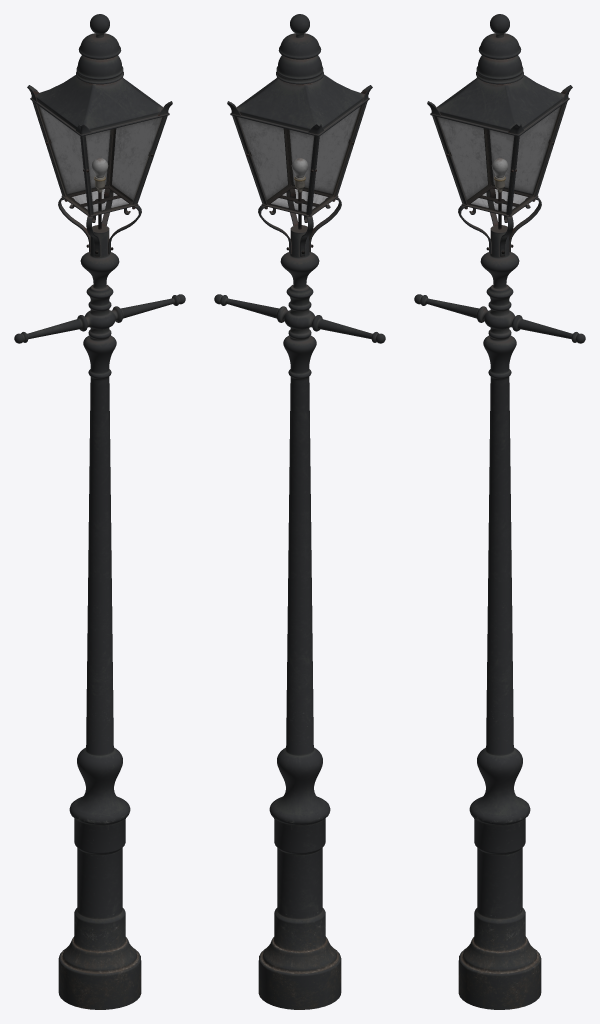
The model's file is streetlamp.glb.
The picture shows the model from 3 angles, left to right: view 1: azimuth 30°, elevation 25°; view 2: azimuth 150°, elevation 25°; view 3: azimuth 330°, elevation 25°; orthographic projection.
Parts seen in each view (by area): view 1: street_lamp_01; view 2: street_lamp_01; view 3: street_lamp_01.
Boxes of the visible parts, x1,y1,x2,y2 form: street_lamp_01: (14, 14, 185, 1009); street_lamp_01: (214, 14, 385, 1009); street_lamp_01: (414, 14, 585, 1009).
Bounding box in the file's own units: 0.7043 × 3.87 × 0.3865.
3 materials, 3 textured.
